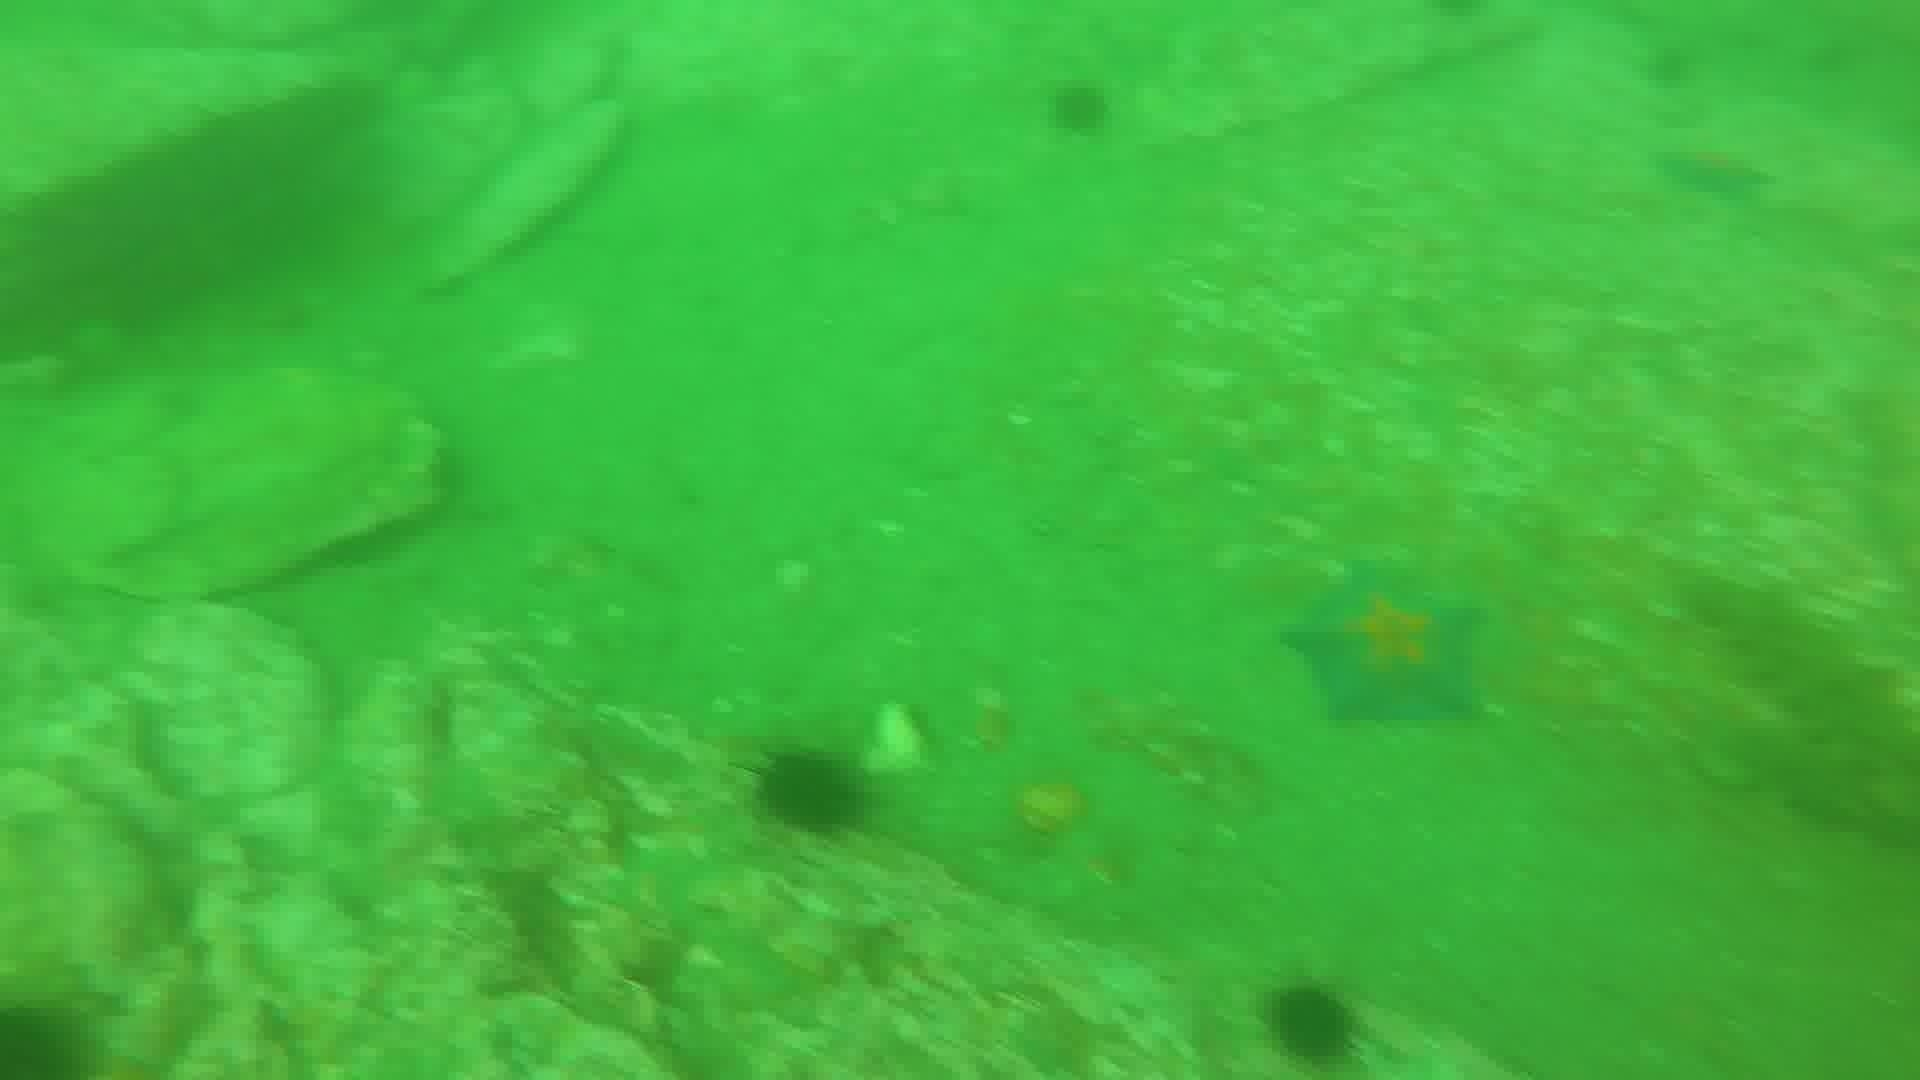echinus: (749, 742, 872, 843), (1259, 977, 1367, 1069), (1, 994, 99, 1079), (1040, 75, 1117, 142)
holothurian: (1688, 566, 1915, 799), (1073, 676, 1271, 814)
starfish: (1278, 560, 1491, 733), (1648, 135, 1779, 206)
